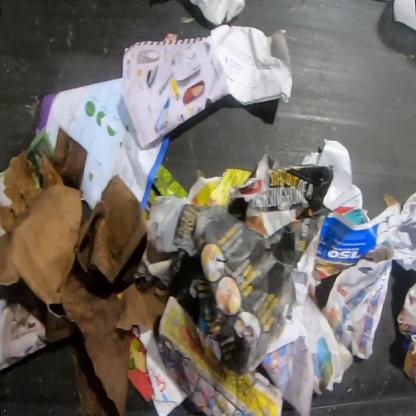cardboard: (0, 125, 171, 416), (398, 280, 415, 386)
